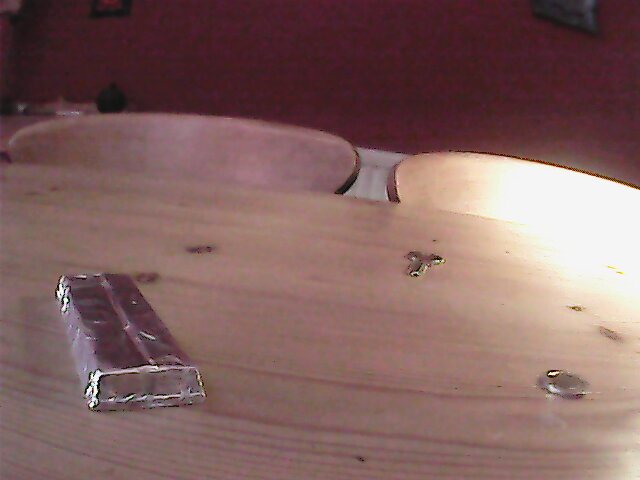Coin: (539, 365, 589, 399)
Foil: (52, 269, 207, 411)
Key: (406, 248, 445, 282)
